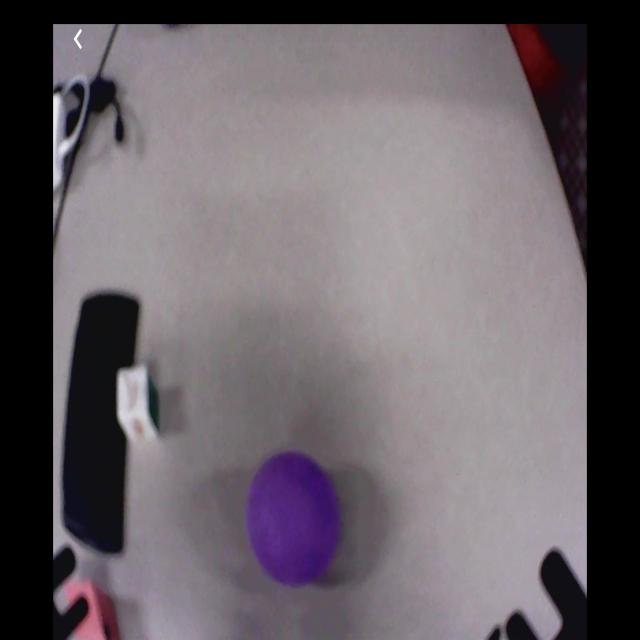ball: (250, 451, 336, 592)
